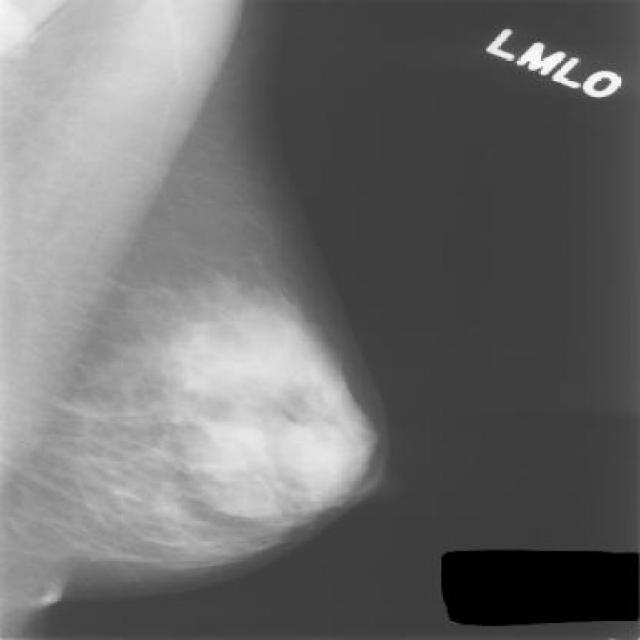tumor: (153, 274, 350, 518)
